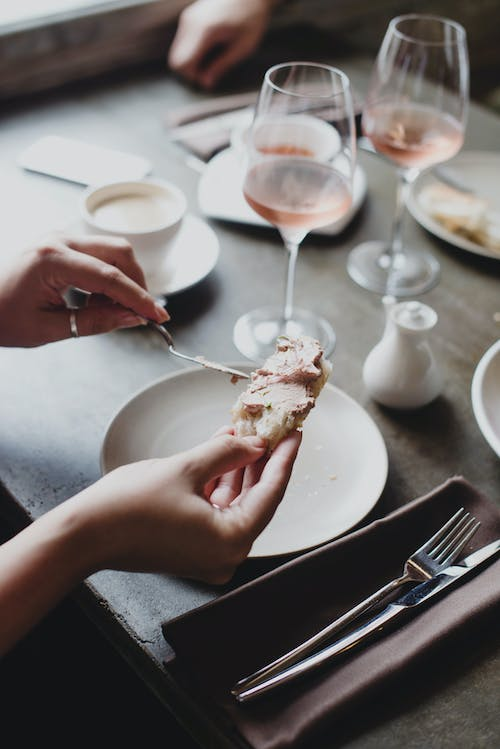alcohol: (238, 59, 359, 370), (344, 11, 473, 301)
knife: (229, 536, 500, 705), (145, 313, 255, 380)
